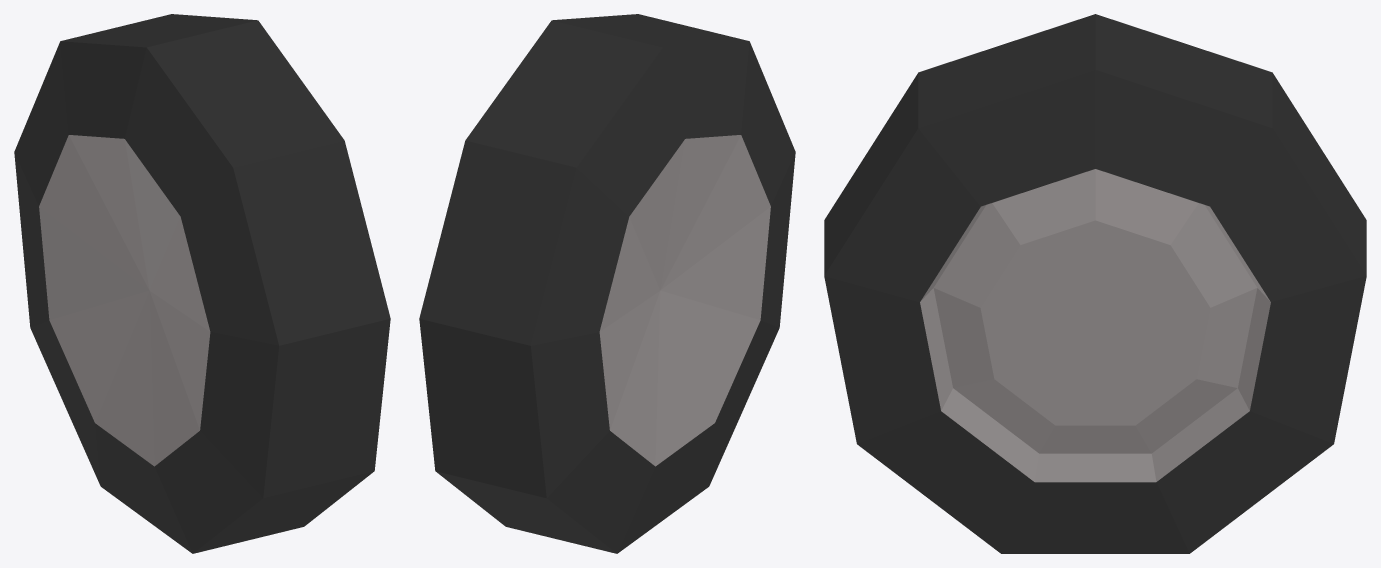
File: jeep-open-wheel_BR.glb
3 views of the same model, side by side, from view 1: azimuth 30°, elevation 25°; view 2: azimuth 150°, elevation 25°; view 3: azimuth 270°, elevation 25° (orthographic). The views are drawn at different scales.
Parts seen in each view (by area): view 1: jeep-open-wheel_BR; view 2: jeep-open-wheel_BR; view 3: jeep-open-wheel_BR.
Part boxes in pixels (<box>): jeep-open-wheel_BR: <box>14,14,390,553</box>; jeep-open-wheel_BR: <box>419,14,795,553</box>; jeep-open-wheel_BR: <box>824,14,1366,553</box>.
Size of the model in its own units: 0.2852 by 0.8286 by 0.8413.
1 material, 1 textured.
